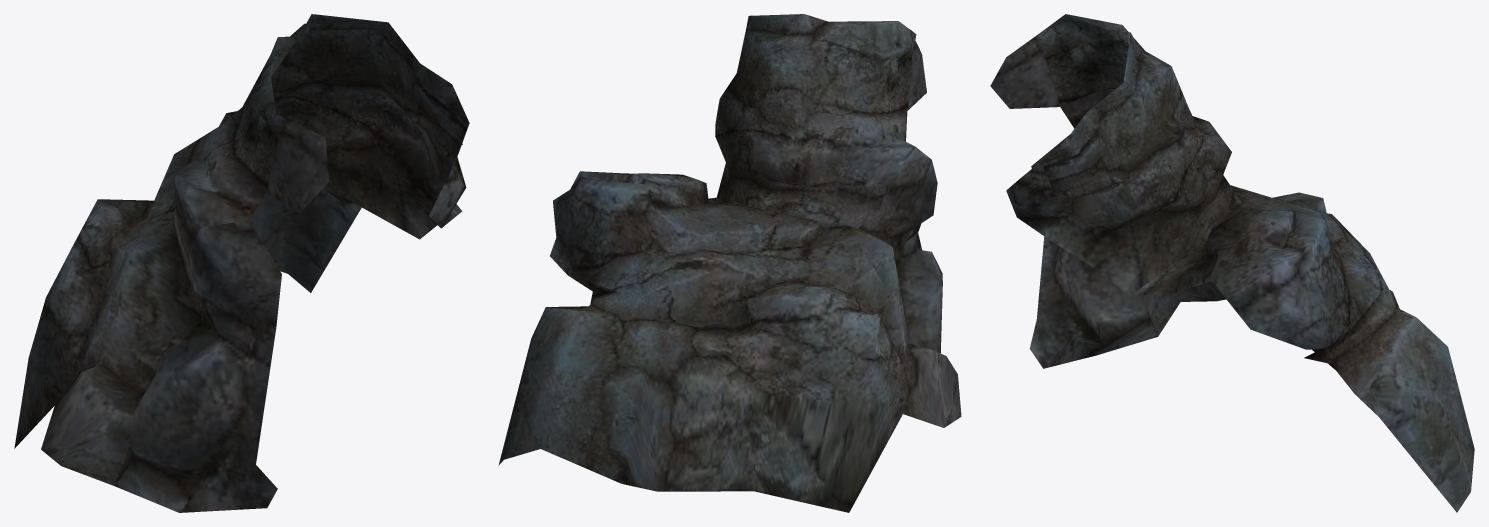
The model's file is S_Rock_Yellow034_H42.FBX.
3 renders of one model, left to right at view 1: azimuth 30°, elevation 25°; view 2: azimuth 150°, elevation 25°; view 3: azimuth 270°, elevation 25°, orthographic. The views are drawn at different scales.
Parts seen in each view (by area): view 1: S_Rock_Yellow034_H42; view 2: S_Rock_Yellow034_H42; view 3: S_Rock_Yellow034_H42.
Part boxes in pixels (left/top/right/bottom): S_Rock_Yellow034_H42: left=14, top=14, right=469, bottom=512; S_Rock_Yellow034_H42: left=498, top=14, right=961, bottom=512; S_Rock_Yellow034_H42: left=990, top=14, right=1474, bottom=512.
Bounding box in the file's own units: 815 × 892 × 847.
Materials: 1 (1 with a texture image).
